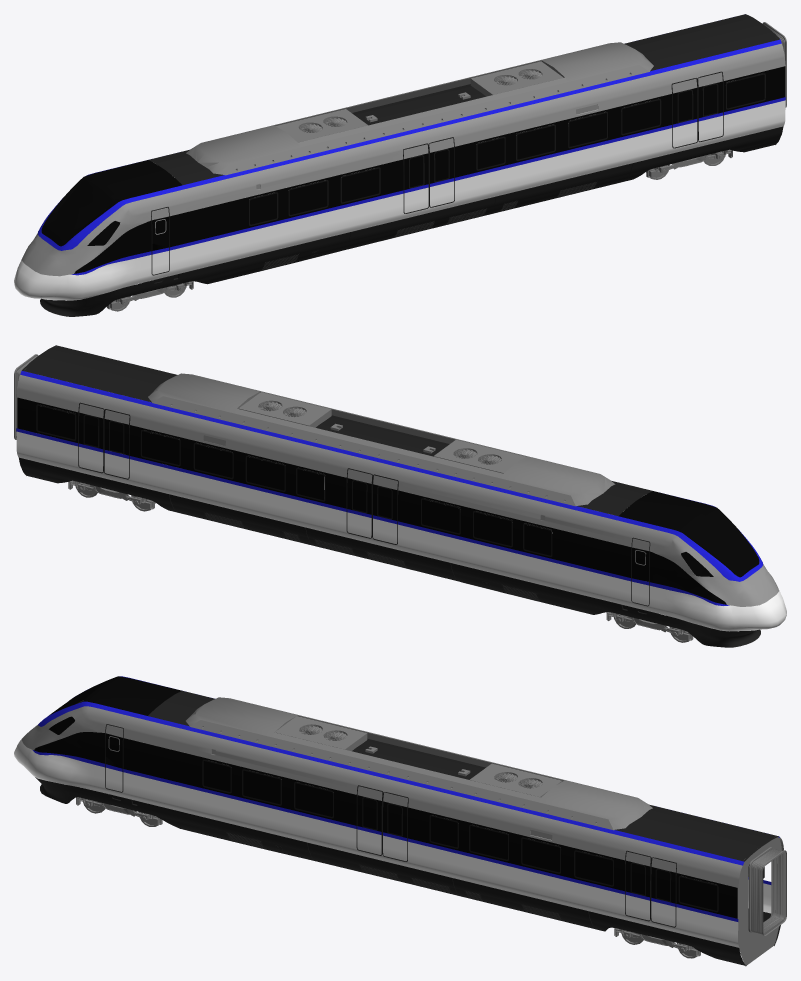
Rendered from 城际列车车头.fbx.
3 renders of one model, top to bottom at view 1: azimuth 30°, elevation 25°; view 2: azimuth 150°, elevation 25°; view 3: azimuth 330°, elevation 25°, orthographic.
Visible parts, largest first — view 1: 城际列车头_车体, 后构架, 前构架; view 2: 城际列车头_车体, 后构架, 前构架; view 3: 城际列车头_车体, 后构架, 前构架.
Part boxes in pixels (bbox=[...]): 城际列车头_车体: bbox=[14, 14, 786, 316]; 后构架: bbox=[646, 149, 732, 177]; 前构架: bbox=[107, 281, 193, 309]; 城际列车头_车体: bbox=[14, 345, 786, 647]; 后构架: bbox=[68, 480, 154, 509]; 前构架: bbox=[606, 612, 693, 640]; 城际列车头_车体: bbox=[14, 676, 786, 966]; 后构架: bbox=[614, 928, 700, 956]; 前构架: bbox=[76, 788, 162, 824].
Size of the model in its own units: 3000 by 478 by 337.
